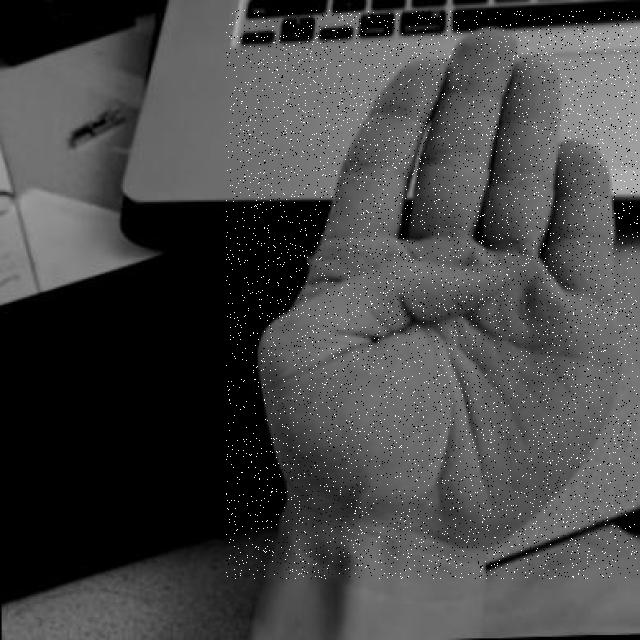B: (226, 10, 638, 579)
